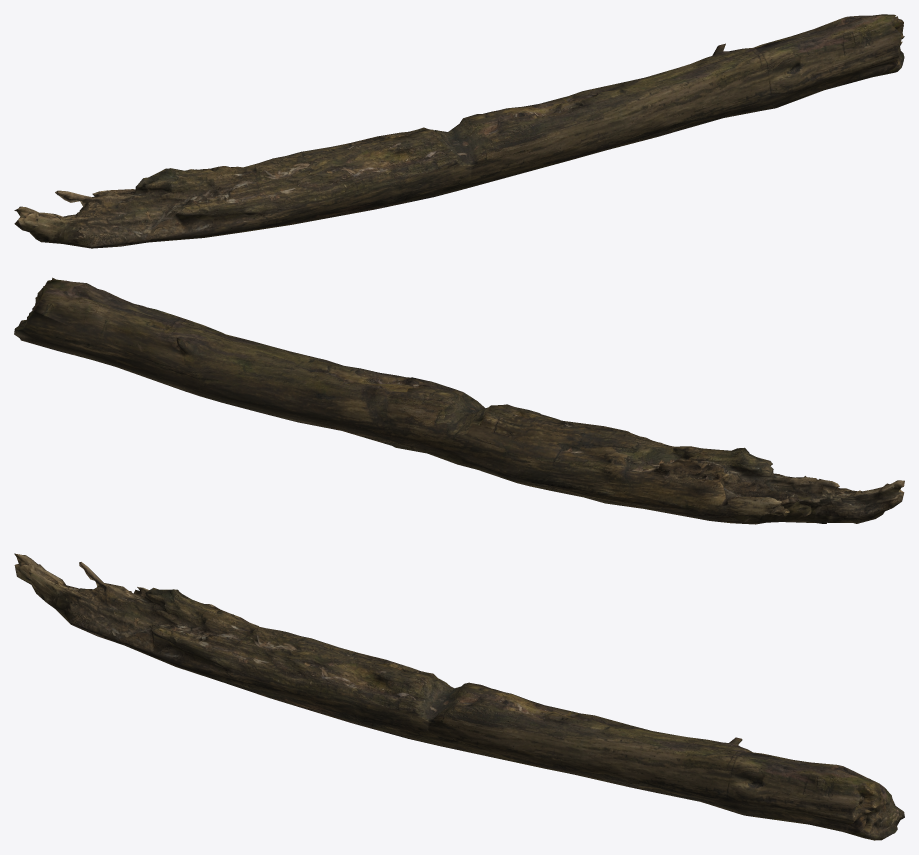
The model's file is dead_tree_trunk_lod.glb.
3 views of the same model, one above another, from view 1: azimuth 30°, elevation 25°; view 2: azimuth 150°, elevation 25°; view 3: azimuth 330°, elevation 25° (orthographic).
Visible parts, largest first — view 1: dead_tree_trunk; view 2: dead_tree_trunk; view 3: dead_tree_trunk.
Part boxes in pixels (box(x1,y1,x2,y2)): dead_tree_trunk: box(14, 14, 904, 248); dead_tree_trunk: box(14, 277, 904, 524); dead_tree_trunk: box(14, 553, 904, 840).
Bounding box in the file's own units: 3.05 × 0.287 × 0.2774.
1 material, 1 textured.
